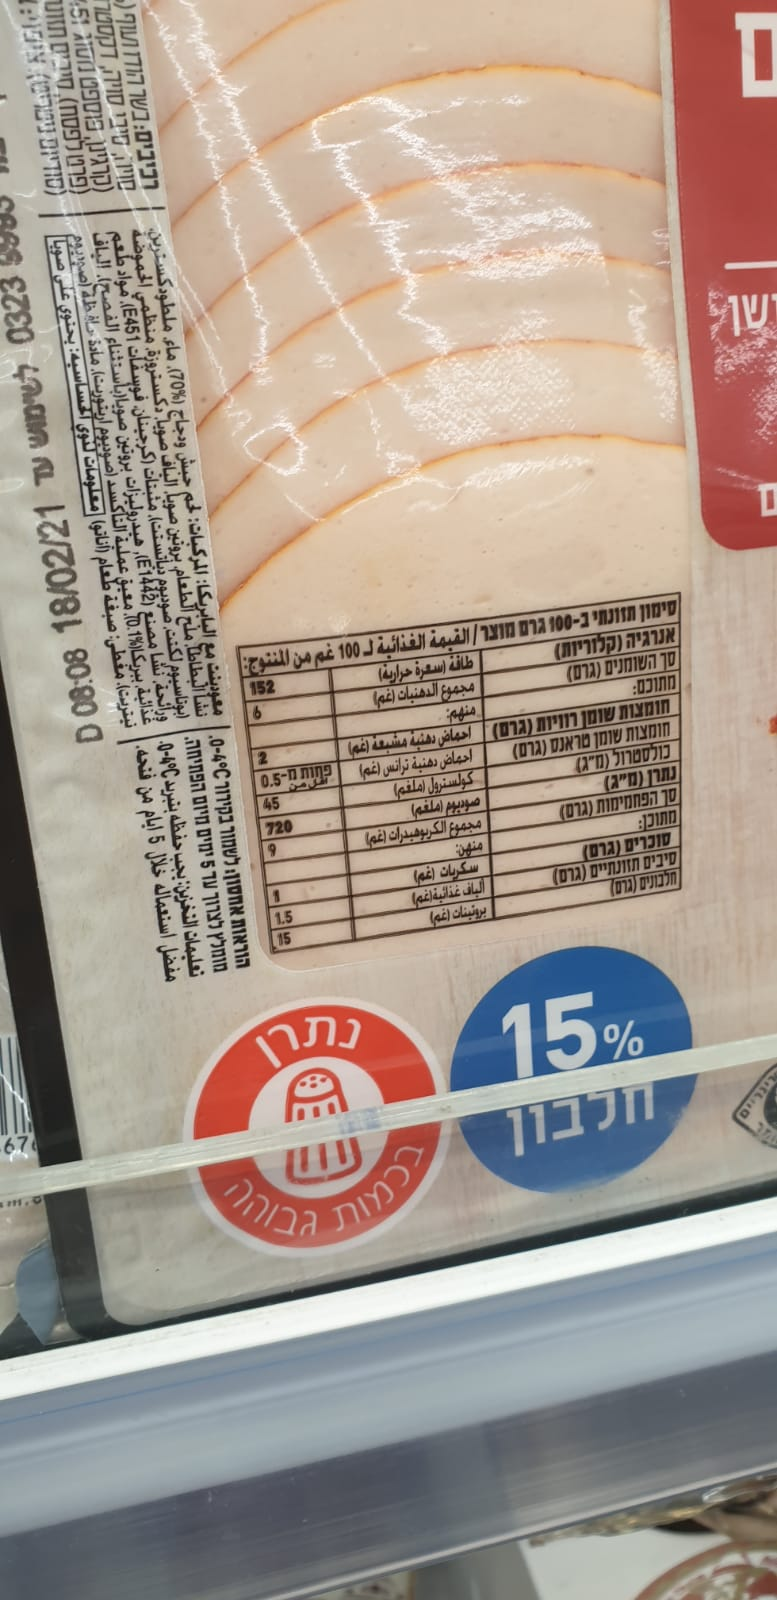salt: (182, 996, 452, 1256)
